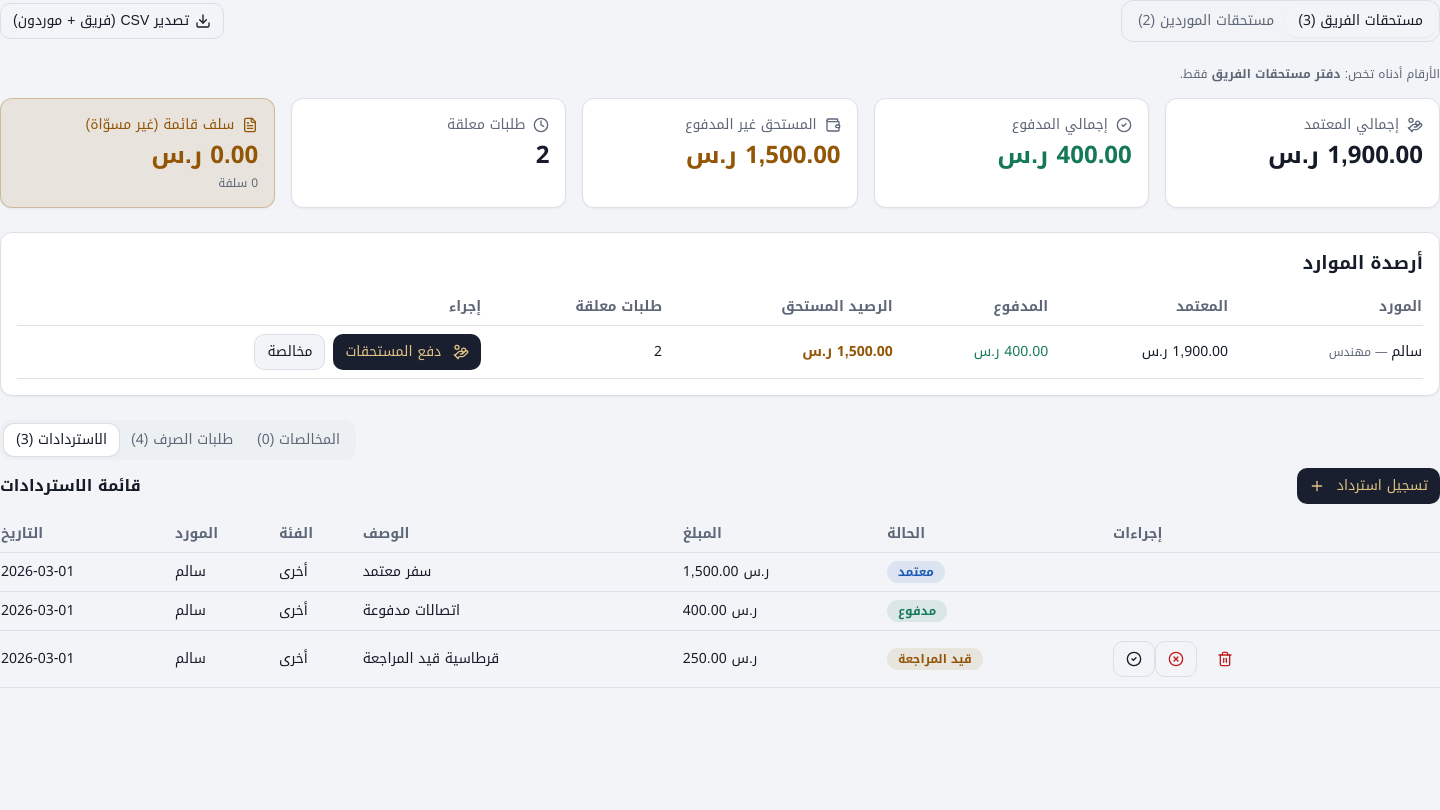
Test: creating a request from approved reimbursements › opens the request dialog from the balances table, pre-filled for that resource
This screenshot has width=1440, height=810.
What coordinates should you click on to do the following:
click the button "دفع المستحقات"
I would click on:
 (407, 352)
Its box is [334,334,481,370].
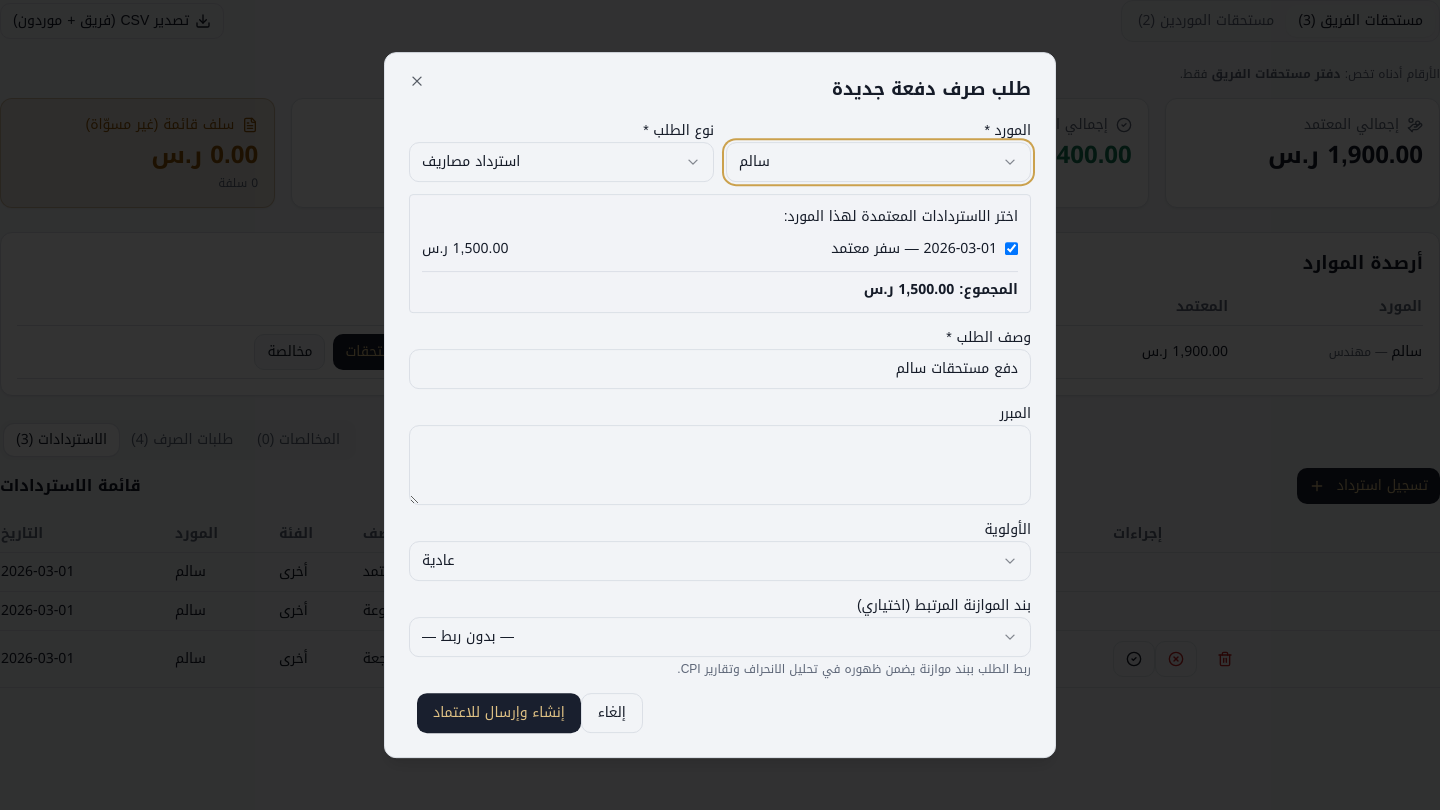
Expected: the heading "طلب صرف دفعة جديدة" is shown, [832,72,1031,106]
Expected: the text "المجموع: 1,500.00 ر.س" is shown, [422,271,1018,300]
